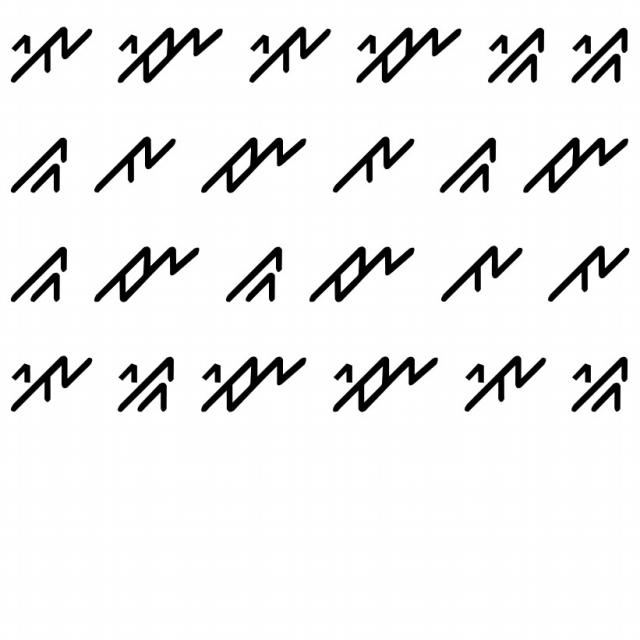a: (537, 231, 635, 305), (89, 122, 178, 203), (438, 238, 526, 312), (326, 126, 416, 198)
i: (450, 347, 550, 418), (242, 19, 334, 86), (6, 348, 95, 414), (5, 19, 94, 85)
ngga: (9, 132, 82, 203), (219, 238, 290, 311), (437, 132, 502, 202), (9, 242, 72, 306)
nggi: (110, 351, 182, 426), (563, 25, 637, 94), (566, 347, 632, 421), (481, 28, 550, 88)
nja: (514, 121, 634, 204), (90, 232, 206, 314), (302, 237, 422, 313), (192, 128, 312, 203)
nji: (190, 339, 308, 423), (348, 17, 468, 91), (110, 19, 228, 90), (322, 347, 440, 417)
